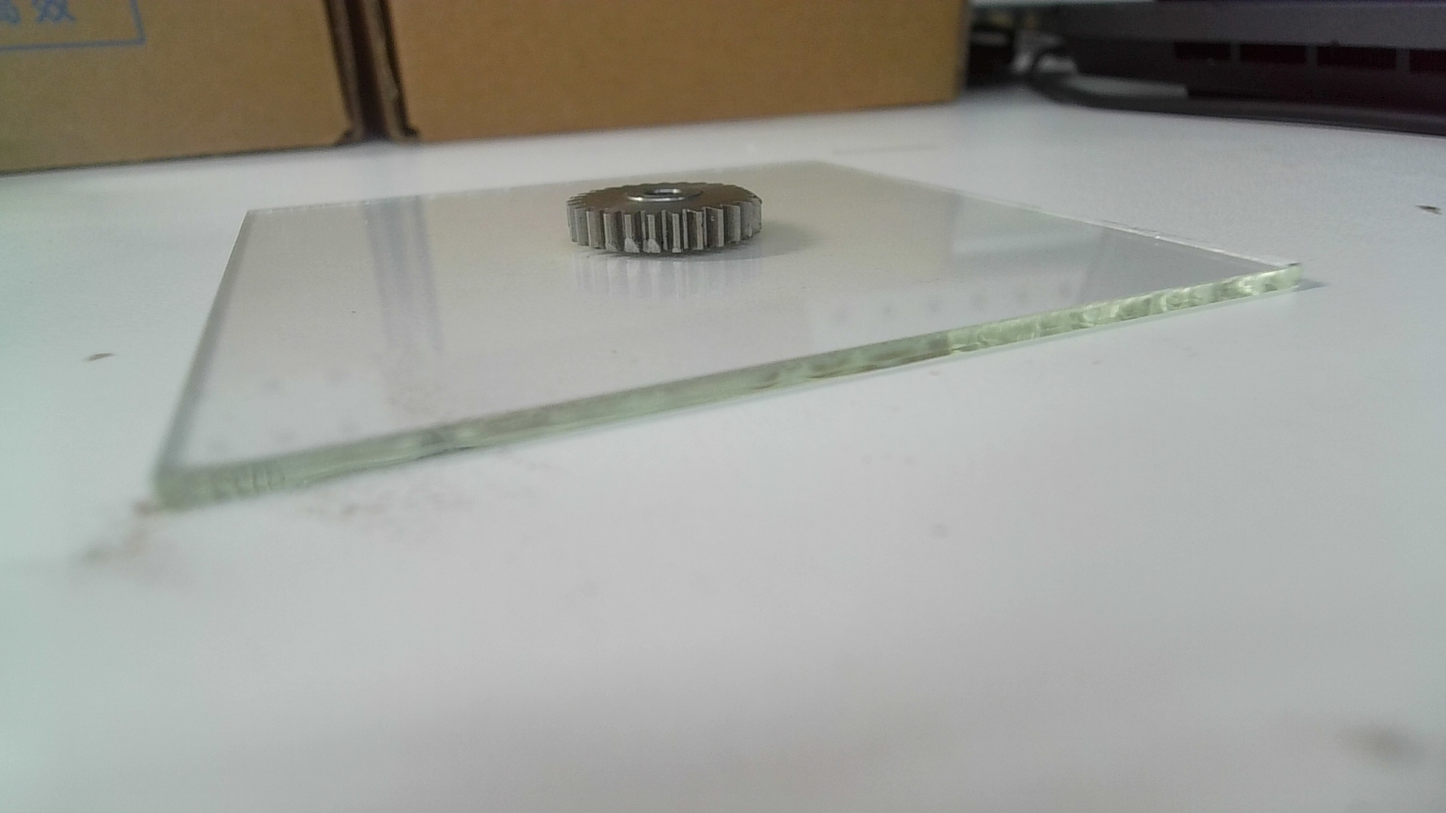gear: (564, 178, 763, 255)
